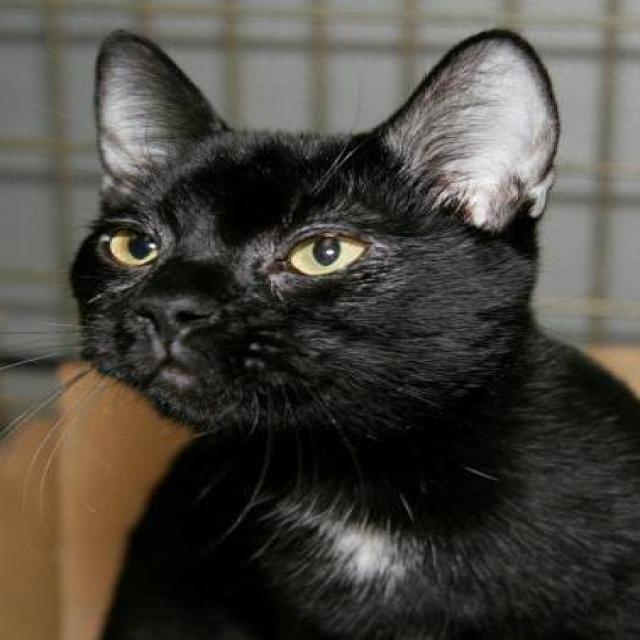Cat: (77, 22, 564, 437)
